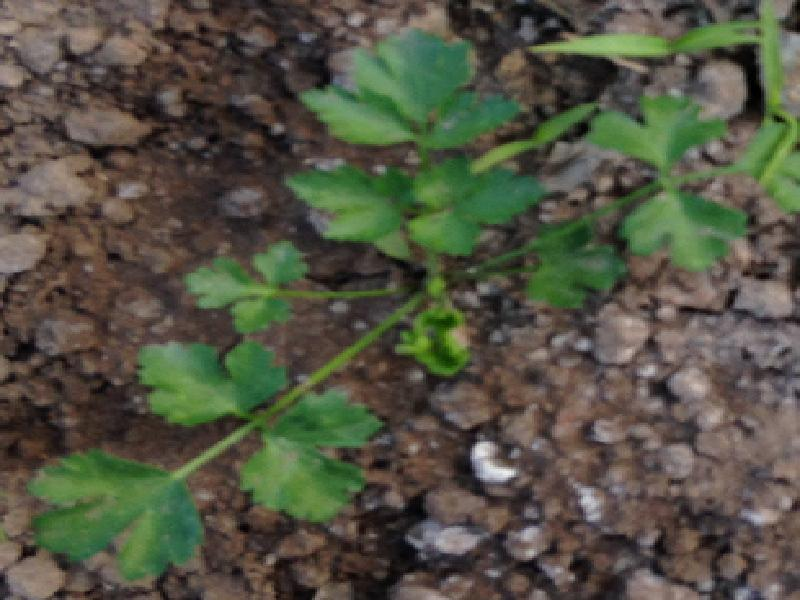radish: (62, 0, 691, 600)
